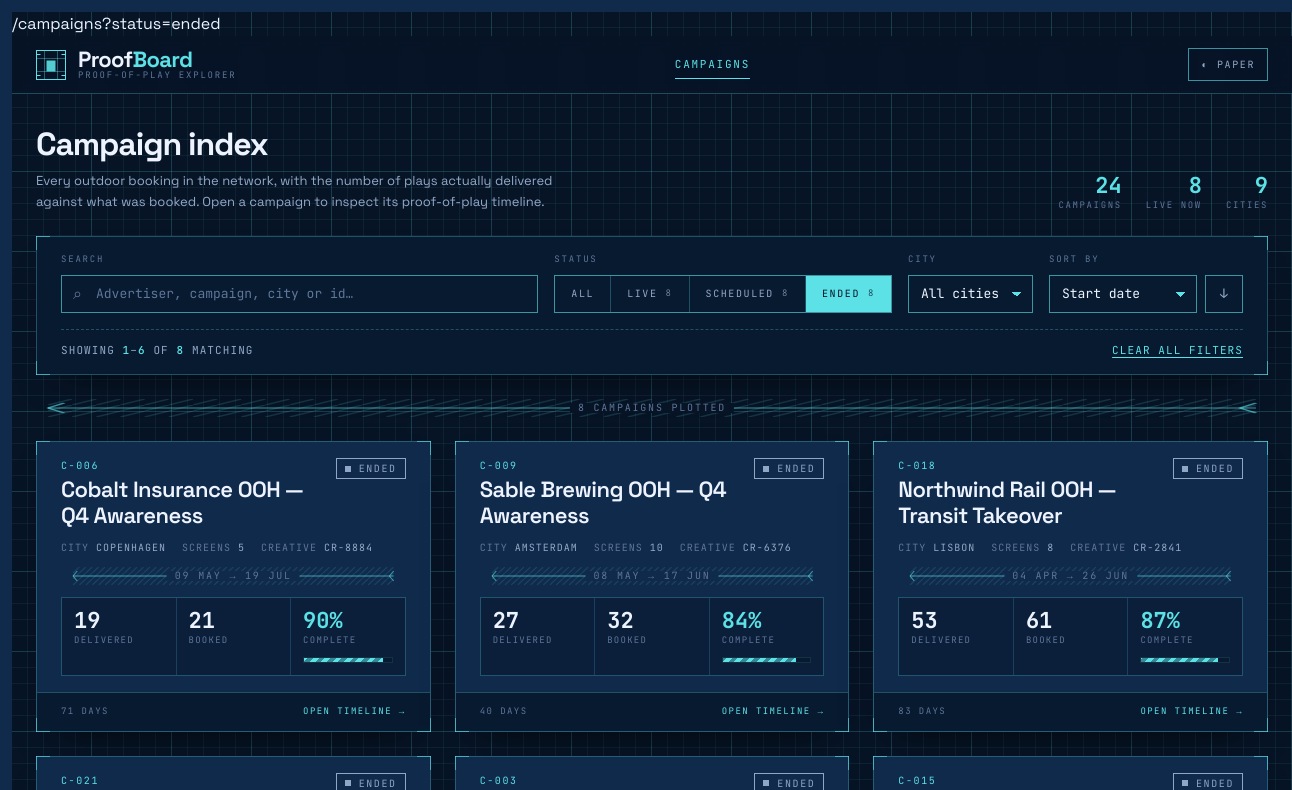
Test: campaign index route › applies a status filter from the URL on first paint and updates the URL on click
Click the button "Live 8" at (650,294), box top-left (611, 276), bottom-right (690, 312)
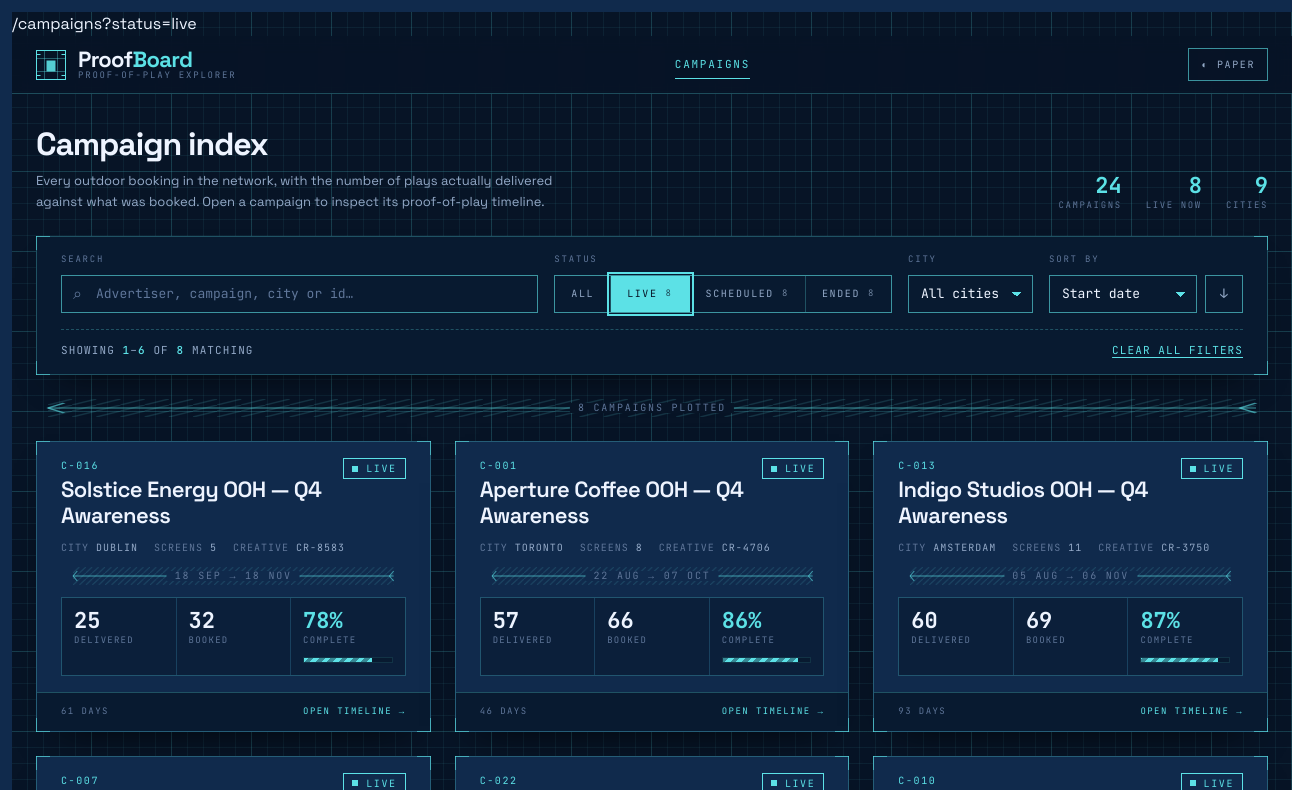
Expected: the text with test id "location" reads "/campaigns?status=live", top-left (12, 13), bottom-right (197, 34)
